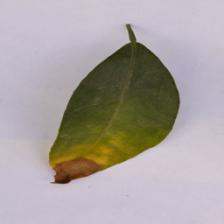black spot: (28, 140, 118, 202)
